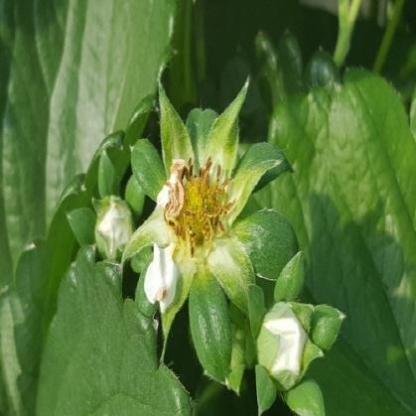Strawberry_Blossom_Blight: (162, 156, 242, 259)
